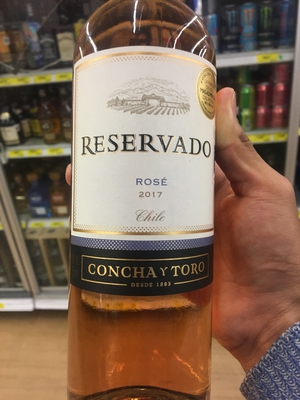reservado rose: (69, 10, 214, 399)
